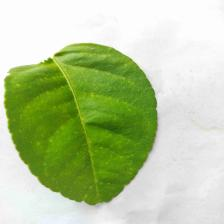greening: (6, 58, 140, 176)
